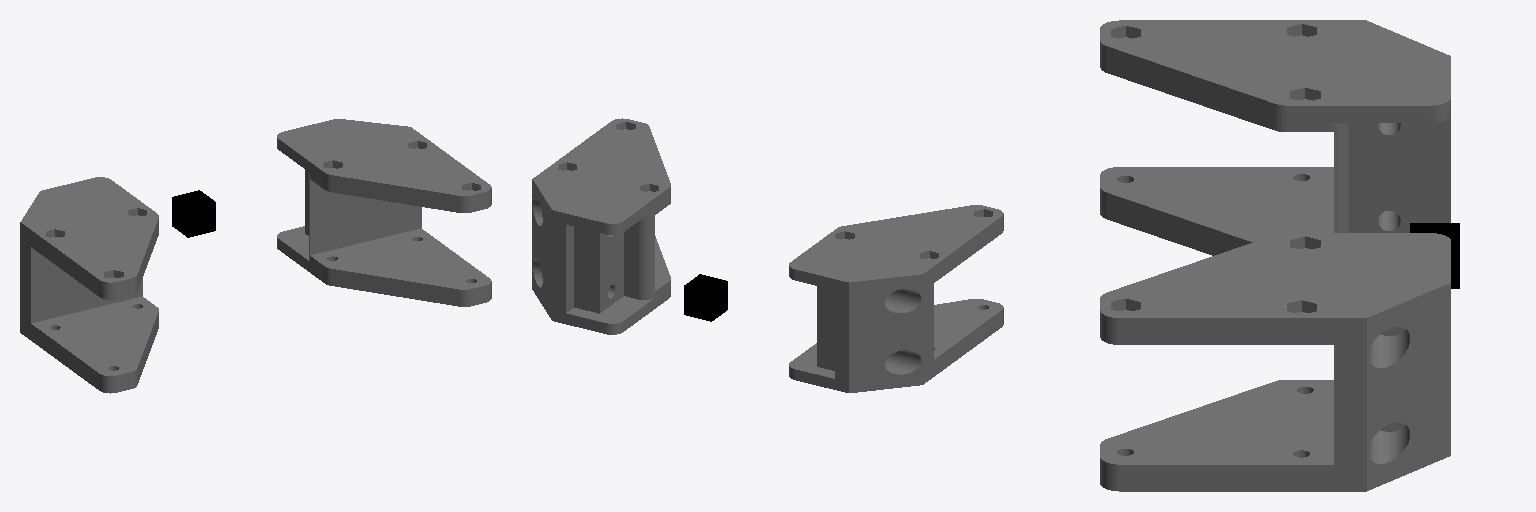
The robot description file, URDF, robot "tri_finray_gripper":
<?xml version="1.0"?>
<robot name="tri_finray_gripper">
    <!-- Material definitions -->
    <material name="black">
        <color rgba="0.0 0.0 0.0 1.0"/>
    </material>
    <material name="white">
        <color rgba="1.0 1.0 1.0 1.0"/>
    </material>
    <material name="blue">
        <color rgba="0.1 0.1 0.8 1.0"/>
    </material>
    <material name="gray">
        <color rgba="0.5 0.5 0.5 1.0"/>
    </material>

    <!-- Base Link -->
    <link name="base_link">
        <visual>
            <origin xyz="0 0 0" rpy="0 0 0"/>
            <geometry>
                <box size="0.01 0.01 0.01"/>
            </geometry>
            <material name="black"/>
        </visual>
    </link>

    <!-- Left Finger Holder -->
    <link name="finger_holder_left">
        <visual>
            <origin xyz="0 0 0" rpy="0 0 0"/>
            <geometry>
                <mesh filename="package://tri_finray_gripper/meshes/wsg50_mount - finger_holder_left.stl" scale="0.001 0.001 0.001"/>
            </geometry>
            <material name="gray"/>
        </visual>
        <collision>
            <origin xyz="0 0 0" rpy="0 0 0"/>
            <geometry>
                <mesh filename="package://tri_finray_gripper/meshes/wsg50_mount - finger_holder_left.stl" scale="0.001 0.001 0.001"/>
            </geometry>
        </collision>
    </link>

    <!-- Right Finger Holder -->
    <link name="finger_holder_right">
        <visual>
            <origin xyz="0 0 0" rpy="0 0 0"/>
            <geometry>
                <mesh filename="package://tri_finray_gripper/meshes/wsg50_mount - finger_holder_right.stl" scale="0.001 0.001 0.001"/>
            </geometry>
            <material name="gray"/>
        </visual>
        <collision>
            <origin xyz="0 0 0" rpy="0 0 0"/>
            <geometry>
                <mesh filename="package://tri_finray_gripper/meshes/wsg50_mount - finger_holder_right.stl" scale="0.001 0.001 0.001"/>
            </geometry>
        </collision>
    </link>

    <!-- Soft Gripper Finger Left -->
    <link name="soft_finger_left">
        <visual>
            <origin xyz="0 0 0" rpy="0 0 0"/>
            <geometry>
                <mesh filename="package://tri_finray_gripper/meshes/soft_gripper_finger.stl" scale="0.001 0.001 0.001"/>
            </geometry>
            <material name="blue"/>
        </visual>
        <collision>
            <origin xyz="0 0 0" rpy="0 0 0"/>
            <geometry>
                <mesh filename="package://tri_finray_gripper/meshes/soft_gripper_finger.stl" scale="0.001 0.001 0.001"/>
            </geometry>
        </collision>
    </link>

    <!-- Soft Gripper Finger Right -->
    <link name="soft_finger_right">
        <visual>
            <origin xyz="0 0 0" rpy="0 0 0"/>
            <geometry>
                <mesh filename="package://tri_finray_gripper/meshes/soft_gripper_finger.stl" scale="0.001 0.001 0.001"/>
            </geometry>
            <material name="blue"/>
        </visual>
        <collision>
            <origin xyz="0 0 0" rpy="0 0 0"/>
            <geometry>
                <mesh filename="package://tri_finray_gripper/meshes/soft_gripper_finger.stl" scale="0.001 0.001 0.001"/>
            </geometry>
        </collision>
    </link>

    <!-- Joint Connections -->
    <joint name="base_to_left_holder" type="fixed">
        <parent link="base_link"/>
        <child link="finger_holder_left"/>
        <origin xyz="-0.03 0.08 0" rpy="0 0 0"/>
    </joint>

    <joint name="base_to_right_holder" type="fixed">
        <parent link="base_link"/>
        <child link="finger_holder_right"/>
        <origin xyz="0.03 0.08 0" rpy="0 0 0"/>
    </joint>

    <joint name="left_holder_to_finger" type="fixed">
        <parent link="finger_holder_left"/>
        <child link="soft_finger_left"/>
        <origin xyz="0.0 -0.1 0.012" rpy="-1.57 3.14 0"/>
    </joint>

    <joint name="right_holder_to_finger" type="fixed">
        <parent link="finger_holder_right"/>
        <child link="soft_finger_right"/>
        <origin xyz="0.0 -0.1 -0.012" rpy="-1.57 0 0"/>
    </joint>
</robot>

--- Render facts (derived) ---
Views: 3 orthographic renders of the robot side by side, from view 1: azimuth 30°, elevation 25°; view 2: azimuth 150°, elevation 25°; view 3: azimuth 270°, elevation 25°.
Model tri_finray_gripper with 5 links and 4 joints (4 fixed), rooted at base_link, posed every joint at zero.
Links seen in each view (by area): view 1: finger_holder_right, finger_holder_left, base_link; view 2: finger_holder_left, finger_holder_right, base_link; view 3: finger_holder_right, finger_holder_left, base_link.
Link boxes in pixels (x1,y1,x2,y2): finger_holder_right: [277, 119, 491, 306]; finger_holder_left: [20, 177, 158, 393]; base_link: [172, 190, 215, 237]; finger_holder_left: [789, 205, 1003, 392]; finger_holder_right: [532, 118, 670, 334]; base_link: [684, 274, 727, 321]; finger_holder_right: [1100, 233, 1450, 491]; finger_holder_left: [1100, 20, 1450, 255]; base_link: [1410, 223, 1459, 288].
Size in the robot's own frame: 0.14 by 0.0715 by 0.038 metres.
Meshes: 3 distinct files referenced, 2 mesh visuals loaded (2 binary STL); not drawn: 2 (reference not matched to a file when rendering).
